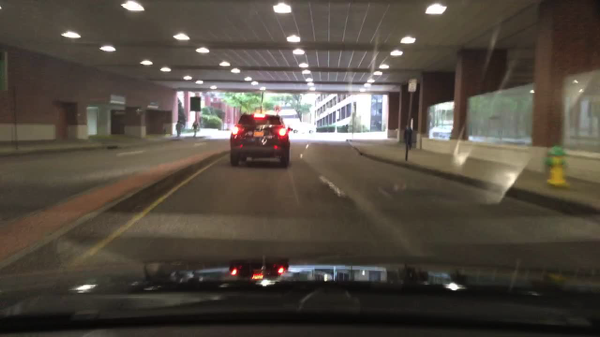car: (228, 111, 290, 168), (292, 125, 315, 136)
person: (174, 120, 183, 139), (191, 119, 199, 136)
traffic sign: (403, 125, 413, 150), (190, 96, 200, 113), (407, 77, 417, 92), (273, 104, 281, 112)
